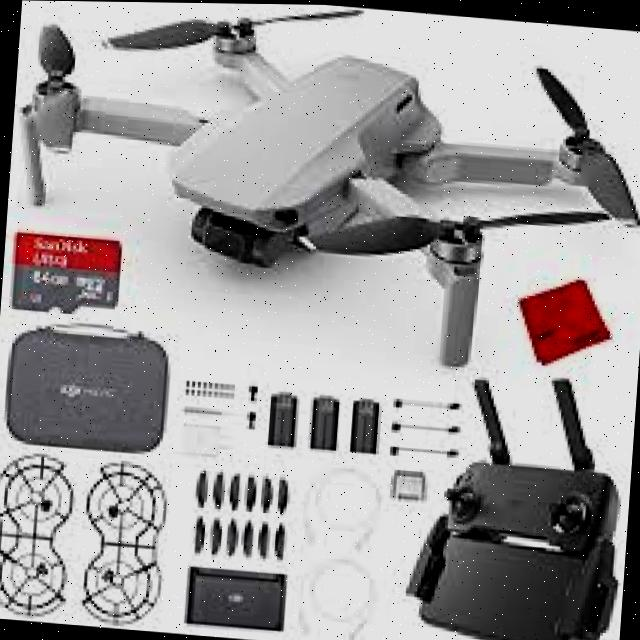drone: (0, 0, 640, 386)
